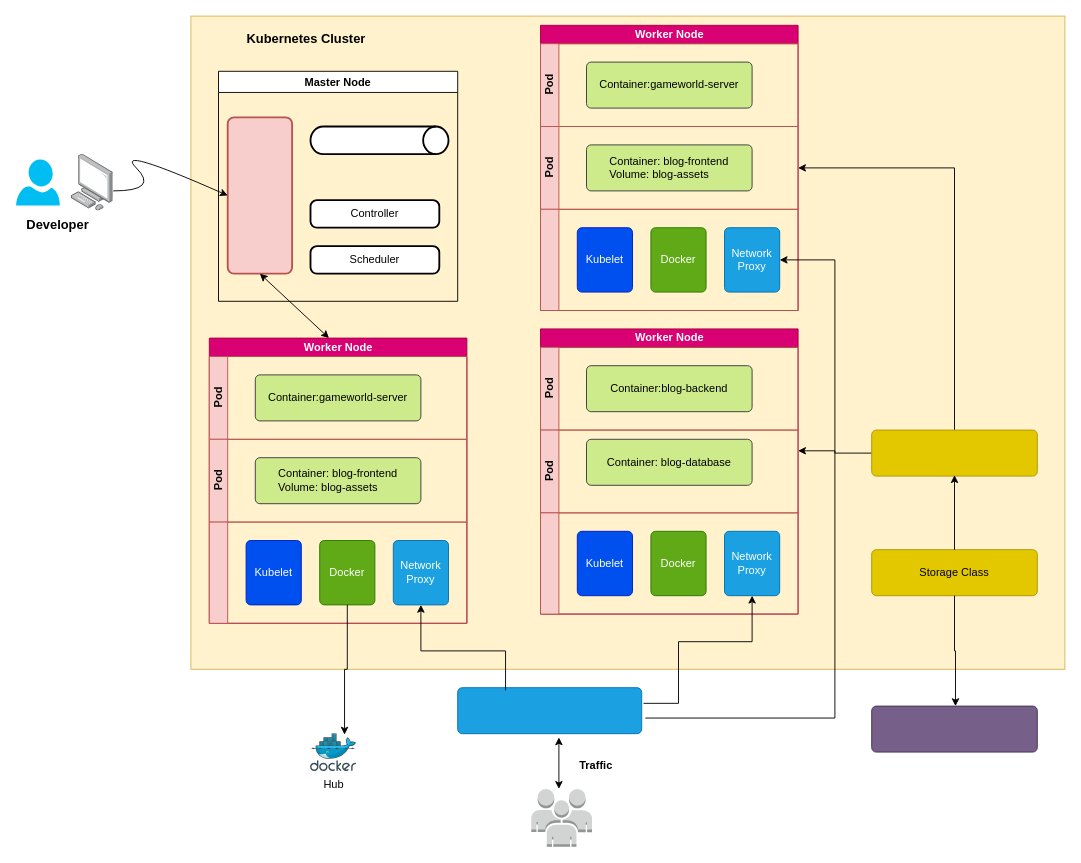
This 1081x863 diagram has some shape labels left out. Each missing label, with the centre of its shape:
API Server: the point at 259,195
External Storage: the point at 954,728
Key value store: the point at 379,140
Load Balancer: the point at 549,710
Persistent Volume Claim: the point at 954,452
